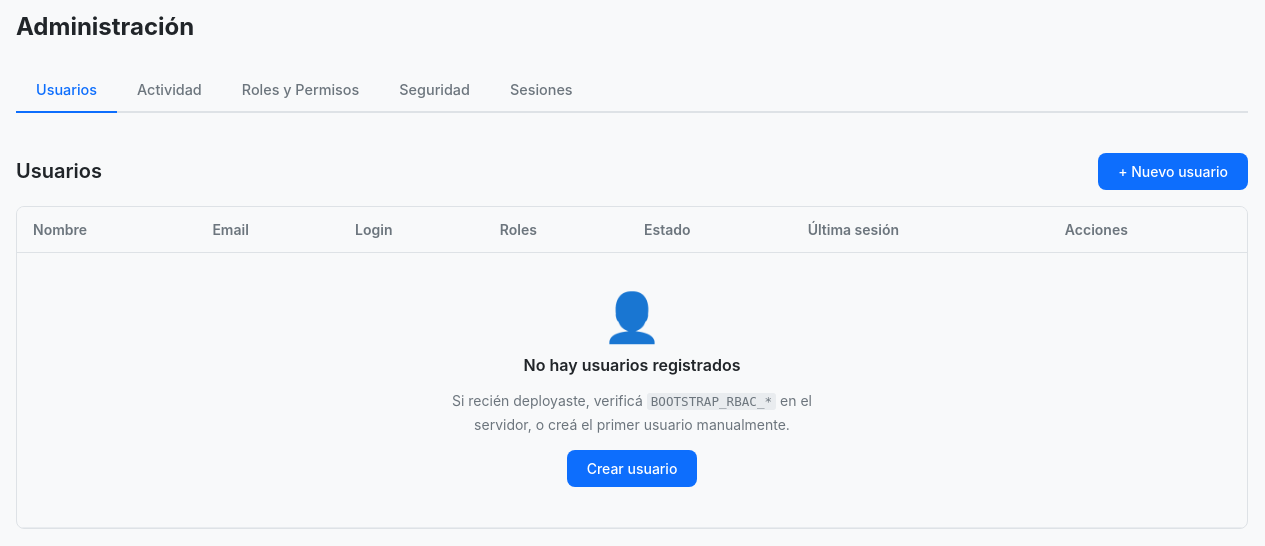
Test: AdminPage › switching to Roles tab shows role list
Click the button "Roles y Permisos" at (301, 91), box x1=222 y1=69 x2=379 y2=113
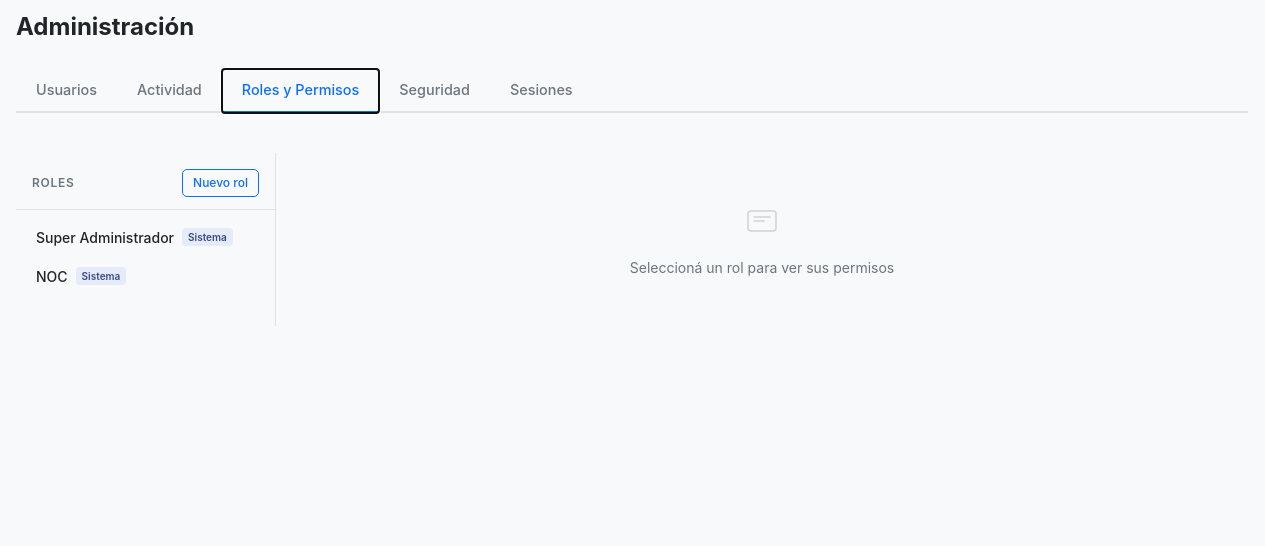
Expected: the text "Super Administrador" is shown, x1=36 y1=227 x2=174 y2=248
